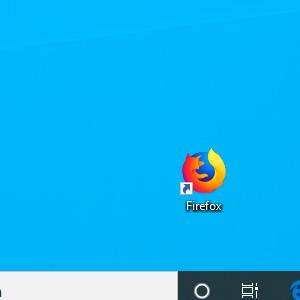firefox: (180, 147, 226, 195)
